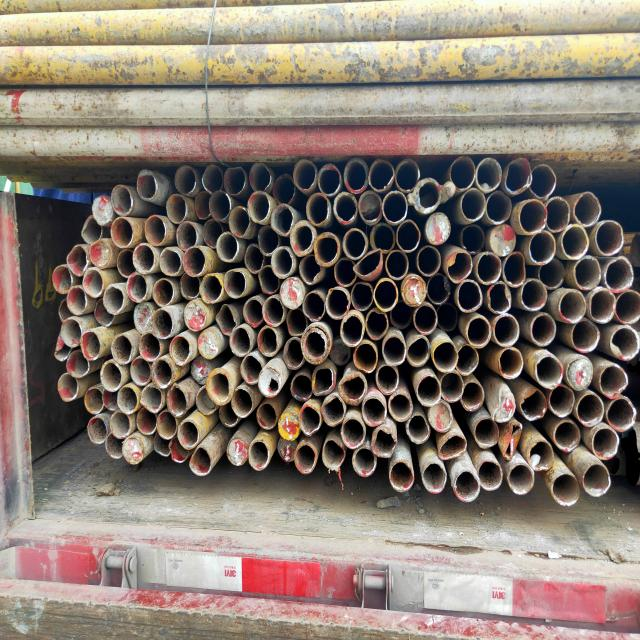pipe: (301, 324, 331, 365), (411, 177, 444, 213), (602, 256, 634, 293), (204, 368, 234, 406), (606, 396, 636, 433), (582, 460, 612, 497), (533, 355, 564, 390), (609, 326, 640, 361), (573, 254, 601, 292), (492, 382, 516, 426), (594, 220, 624, 255), (598, 364, 628, 399), (338, 370, 367, 406), (571, 317, 600, 353), (448, 154, 476, 191), (550, 472, 580, 506), (474, 158, 503, 193), (561, 224, 590, 259), (368, 158, 396, 194), (499, 420, 523, 462), (503, 158, 531, 194), (574, 191, 602, 227), (528, 230, 556, 266), (564, 356, 592, 392), (353, 248, 384, 280), (544, 196, 570, 234), (526, 438, 555, 472), (507, 462, 535, 497), (528, 165, 556, 200), (558, 289, 586, 324), (290, 220, 316, 257), (314, 230, 340, 267), (486, 190, 512, 227), (589, 287, 615, 324), (518, 200, 546, 234), (590, 426, 618, 460), (502, 250, 527, 288), (615, 287, 640, 325), (382, 189, 408, 225), (495, 347, 524, 379), (452, 470, 480, 503), (529, 313, 557, 346), (576, 393, 604, 426), (553, 419, 581, 452), (424, 272, 451, 306), (490, 223, 517, 257), (492, 314, 519, 348), (520, 278, 547, 312), (460, 188, 486, 223), (520, 387, 546, 422), (423, 213, 451, 245), (538, 257, 566, 289), (421, 462, 447, 496), (447, 249, 473, 283), (476, 252, 502, 286), (433, 340, 459, 374), (343, 158, 368, 193), (394, 157, 419, 192), (321, 438, 346, 473), (416, 373, 441, 408), (247, 188, 271, 224), (322, 391, 346, 427), (341, 312, 365, 348), (456, 280, 483, 312), (548, 384, 575, 416), (389, 459, 415, 492), (472, 417, 498, 450), (370, 220, 395, 254), (487, 281, 512, 315), (438, 432, 468, 460), (396, 220, 422, 252), (415, 244, 441, 276), (215, 302, 238, 338), (333, 191, 358, 224), (372, 426, 397, 459), (428, 400, 453, 433), (466, 315, 491, 348), (248, 438, 272, 472), (293, 158, 317, 192), (358, 190, 382, 224), (293, 442, 317, 476), (298, 402, 322, 436), (374, 278, 398, 312), (341, 228, 368, 258), (187, 446, 213, 477), (413, 303, 439, 334), (283, 335, 306, 370), (325, 286, 350, 318), (388, 390, 413, 422), (182, 244, 206, 277), (230, 386, 254, 419), (270, 204, 294, 237), (272, 173, 296, 206), (306, 192, 330, 225), (353, 339, 377, 372), (402, 273, 426, 306), (386, 248, 410, 281), (461, 223, 485, 256), (455, 343, 479, 376), (478, 458, 502, 491), (227, 204, 250, 238), (109, 184, 134, 215), (132, 242, 156, 274), (249, 162, 273, 194), (258, 366, 282, 398), (256, 224, 280, 256), (318, 164, 342, 196), (280, 276, 304, 308), (341, 418, 365, 450), (352, 446, 376, 478), (362, 395, 386, 427), (376, 363, 400, 395), (407, 413, 431, 445), (143, 214, 166, 247), (165, 386, 188, 419), (276, 412, 301, 442), (462, 378, 484, 412), (79, 330, 103, 361), (240, 354, 264, 385), (271, 247, 295, 278), (285, 305, 309, 336), (406, 336, 430, 367), (135, 169, 158, 201), (133, 302, 156, 334), (208, 190, 231, 222), (140, 382, 163, 414), (312, 365, 335, 397), (365, 308, 388, 340), (440, 370, 463, 402), (126, 272, 148, 305), (66, 349, 91, 378), (80, 214, 104, 244), (150, 308, 174, 338), (350, 281, 374, 311), (333, 258, 357, 288), (388, 300, 412, 330), (242, 296, 265, 327), (174, 164, 196, 196), (130, 356, 152, 388), (184, 300, 206, 332), (230, 324, 252, 356), (198, 329, 220, 361), (300, 253, 322, 285), (384, 336, 406, 368), (222, 166, 246, 195), (223, 269, 247, 298), (199, 274, 223, 303), (217, 401, 241, 430), (91, 194, 114, 224), (111, 217, 134, 247), (56, 372, 79, 402), (139, 331, 162, 361), (175, 221, 198, 251), (152, 277, 175, 307), (177, 419, 200, 449), (195, 385, 218, 415), (329, 338, 352, 368), (66, 244, 88, 275), (111, 334, 133, 365), (109, 409, 131, 440), (100, 361, 122, 392), (169, 335, 191, 366), (151, 359, 173, 390), (191, 355, 213, 386), (216, 232, 238, 263), (243, 242, 264, 274), (89, 238, 111, 268), (59, 318, 81, 348), (202, 219, 224, 249), (159, 247, 181, 277), (227, 436, 249, 466), (258, 325, 278, 358), (303, 290, 325, 320), (291, 372, 313, 402), (82, 266, 103, 297), (276, 436, 300, 463), (178, 272, 201, 300), (166, 194, 188, 223), (103, 285, 125, 314), (104, 431, 126, 460), (66, 285, 87, 315), (94, 298, 115, 328), (156, 411, 177, 441), (256, 400, 277, 430), (202, 164, 224, 192), (168, 436, 190, 464), (116, 249, 137, 278), (51, 265, 72, 294), (87, 416, 107, 446), (136, 408, 157, 436), (118, 385, 138, 414), (438, 303, 458, 331), (194, 190, 212, 220), (54, 332, 72, 361), (84, 388, 104, 414), (152, 433, 171, 459), (101, 389, 120, 412), (56, 298, 71, 322)
